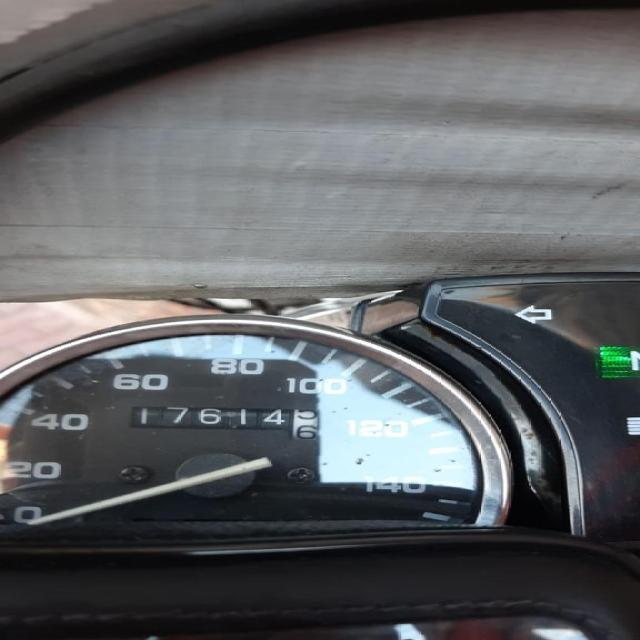odometer: (121, 401, 322, 443)
